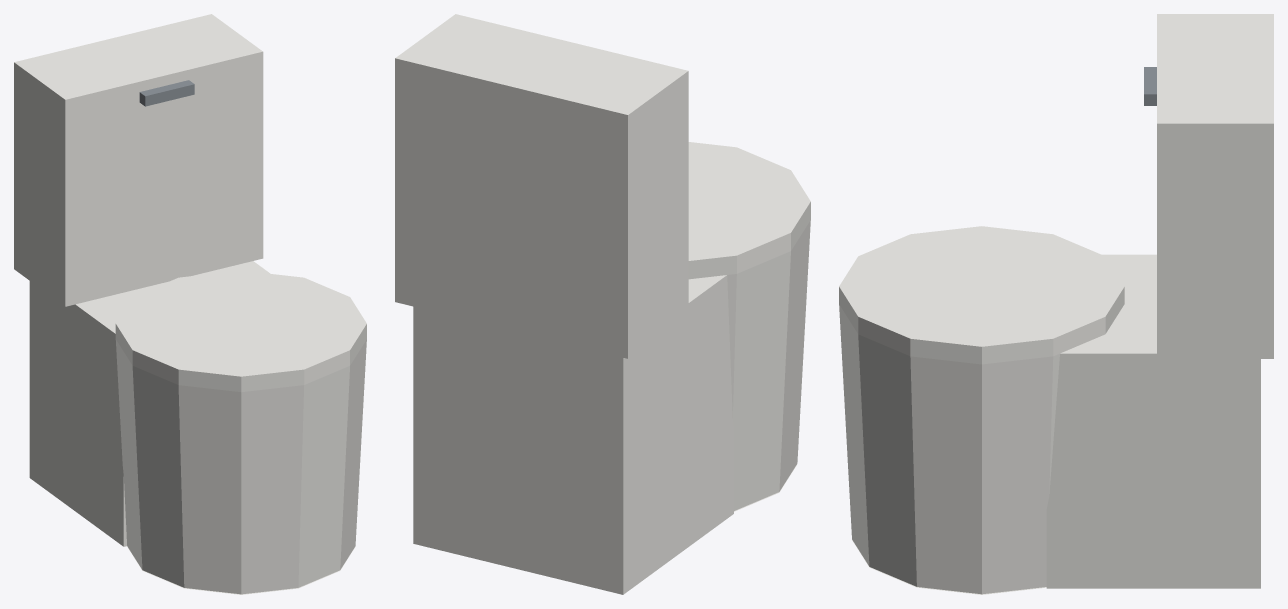
File: Toilet.glb
The picture shows the model from 3 angles, left to right: view 1: azimuth 30°, elevation 25°; view 2: azimuth 150°, elevation 25°; view 3: azimuth 270°, elevation 25°; orthographic projection. The views are drawn at different scales.
Parts seen in each view (by area): view 1: Toilet; view 2: Toilet; view 3: Toilet.
Part boxes in pixels (box(x1,y1,x2,y2)): Toilet: box(14, 14, 366, 594); Toilet: box(395, 14, 810, 594); Toilet: box(839, 14, 1273, 594).
Bounding box in the file's own units: 0.44 × 0.8012 × 0.67.
Materials: 1 (1 with a texture image).
